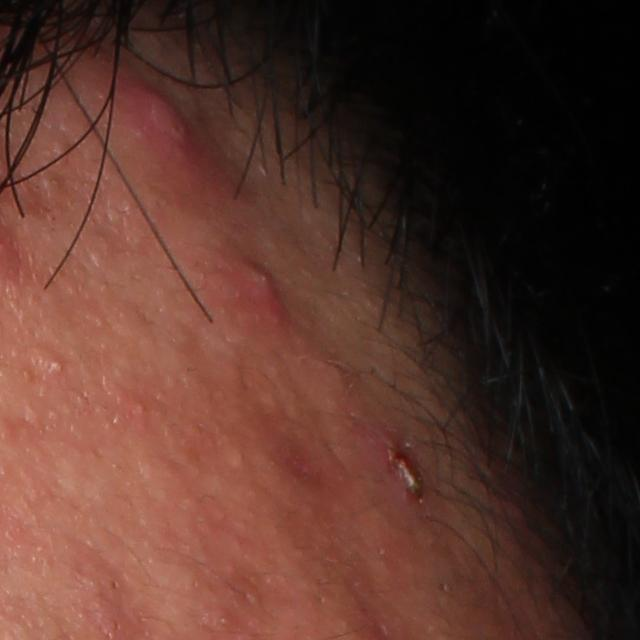papule: (113, 67, 226, 191), (214, 250, 284, 320)
